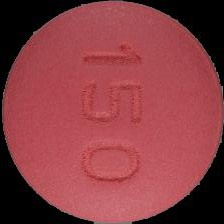50436-6930: (0, 0, 224, 224)
